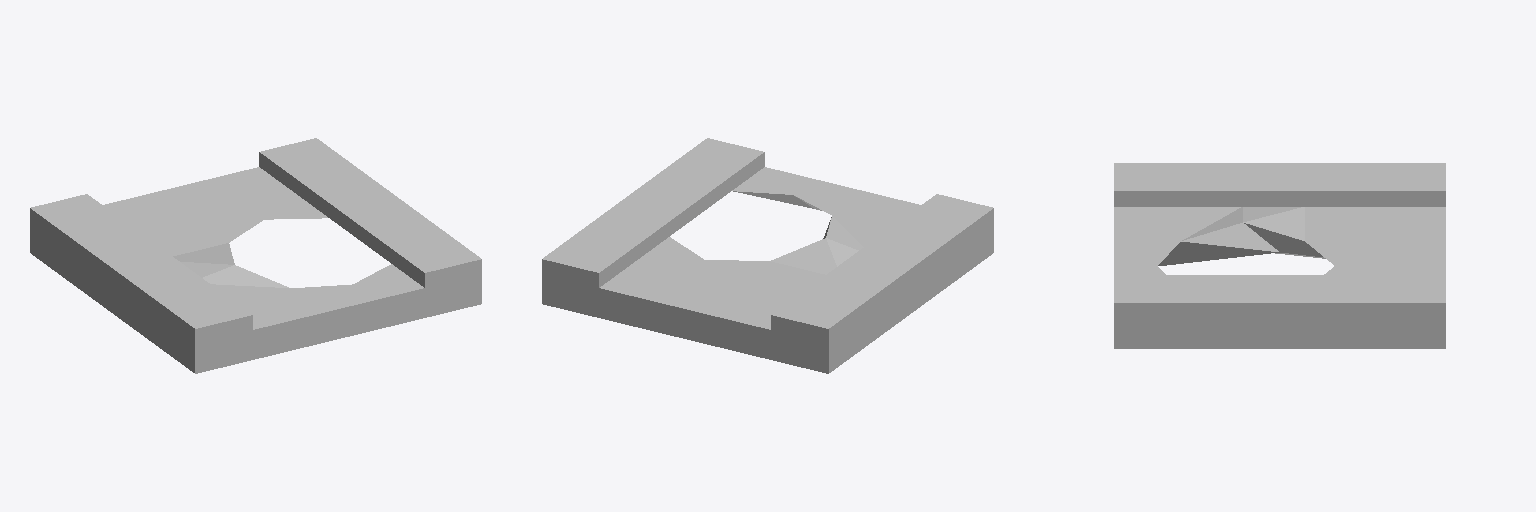
Rendered from ground_hole.obj.
3 renders of one model, left to right at view 1: azimuth 30°, elevation 25°; view 2: azimuth 150°, elevation 25°; view 3: azimuth 270°, elevation 25°, orthographic.
Visible parts, largest first — view 1: Cube_Cube.004; view 2: Cube_Cube.004; view 3: Cube_Cube.004.
Part boxes in pixels (x1,y1,x2,y2): Cube_Cube.004: (30, 138, 481, 373); Cube_Cube.004: (542, 138, 993, 373); Cube_Cube.004: (1114, 163, 1445, 348).
Size of the model in its own units: 10 by 1.5 by 10.